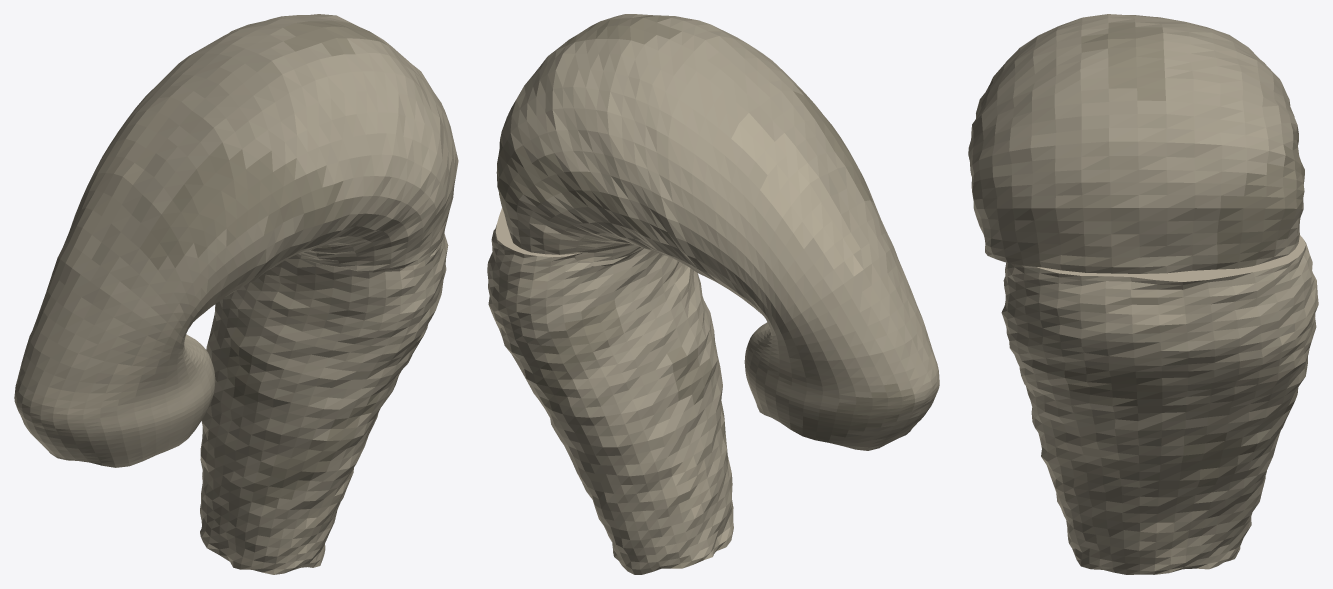
3 renders of one model, left to right at view 1: azimuth 30°, elevation 25°; view 2: azimuth 150°, elevation 25°; view 3: azimuth 270°, elevation 25°, orthographic. The views are drawn at different scales.
Visible parts, largest first — view 1: curved_free_valve, attached_lower_valve; view 2: curved_free_valve, attached_lower_valve; view 3: attached_lower_valve, curved_free_valve.
Boxes of the visible parts, x1,y1,x2,y2 form: curved_free_valve: [14, 14, 458, 467]; attached_lower_valve: [200, 233, 448, 574]; curved_free_valve: [496, 14, 939, 450]; attached_lower_valve: [487, 208, 733, 574]; attached_lower_valve: [1001, 235, 1318, 574]; curved_free_valve: [968, 14, 1304, 273].
Bounding box in the file's own units: 0.05 × 0.06 × 0.035.
